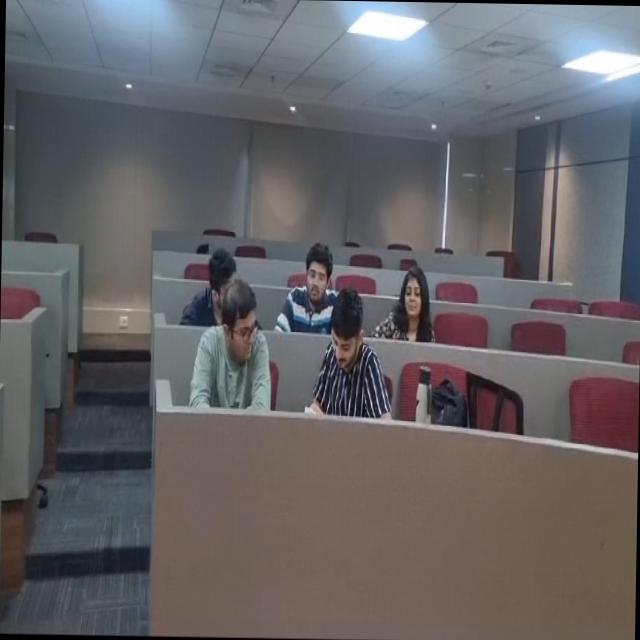cheating: (200, 283, 272, 417), (318, 306, 388, 418), (181, 236, 239, 325)
non-cheating: (282, 243, 338, 339), (384, 245, 435, 341)
